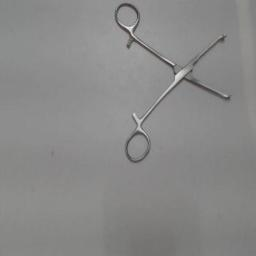Allis Tissue Forceps: (111, 2, 235, 164)
